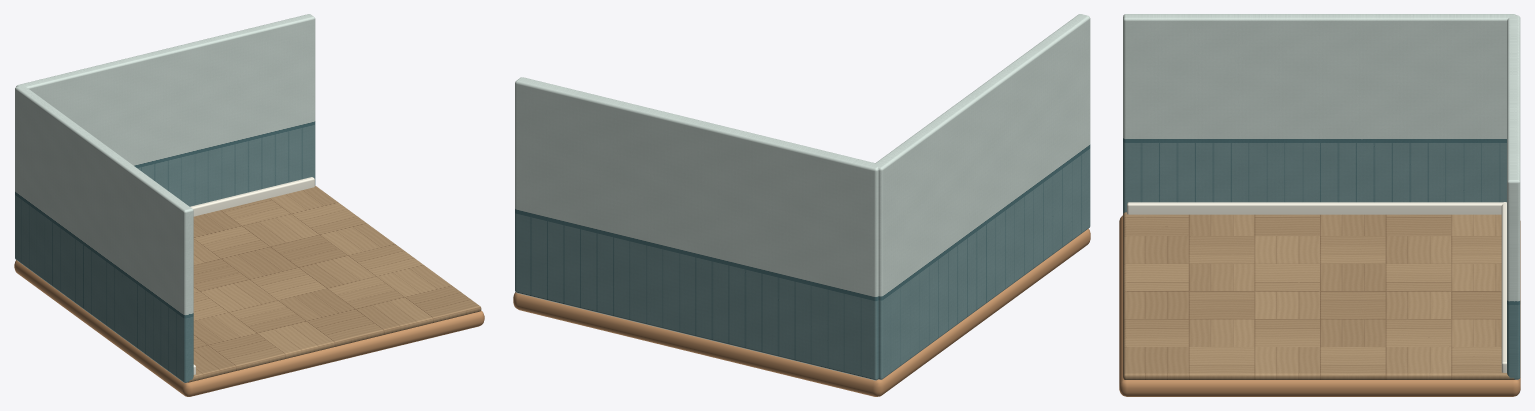
The model's file is room26.glb.
3 renders of one model, left to right at view 1: azimuth 30°, elevation 25°; view 2: azimuth 150°, elevation 25°; view 3: azimuth 270°, elevation 25°, orthographic. The views are drawn at different scales.
Visible parts, largest first — view 1: Back wall, Cream floor, Left wall, Rounded room foundation, Back skirting; view 2: Back wall, Left wall, Rounded room foundation; view 3: Left wall, Cream floor, Rounded room foundation, Back wall, Left skirting, Back skirting.
Part boxes in pixels (<box>): Back wall: <box>16,14,315,206</box>; Cream floor: <box>188,185,481,382</box>; Left wall: <box>15,85,193,382</box>; Rounded room foundation: <box>14,260,484,396</box>; Back skirting: <box>190,177,314,216</box>; Back wall: <box>515,77,879,380</box>; Left wall: <box>874,14,1090,379</box>; Rounded room foundation: <box>513,229,1090,396</box>; Left wall: <box>1123,14,1515,213</box>; Cream floor: <box>1123,212,1514,379</box>; Rounded room foundation: <box>1119,215,1520,396</box>; Back wall: <box>1507,15,1520,379</box>; Left skirting: <box>1127,202,1506,214</box>; Back skirting: <box>1501,202,1506,372</box>.
Bounding box in the file's own units: 5.1 × 3.04 × 5.1.
4 materials, 2 textured.
